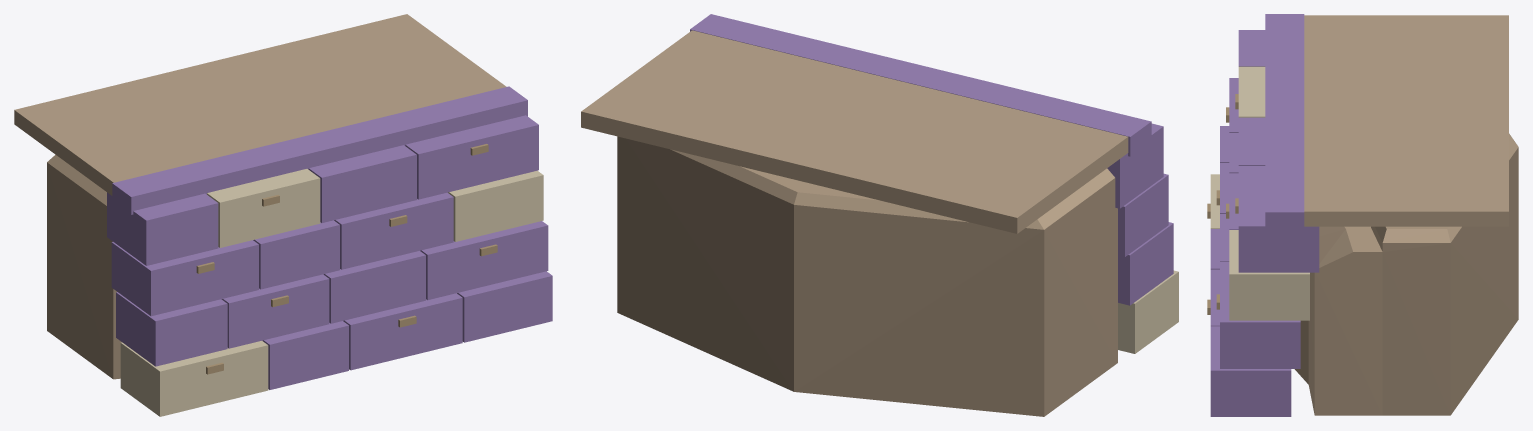
File: terrace-wall-lilac.glb
3 views of the same model, side by side, from view 1: azimuth 30°, elevation 25°; view 2: azimuth 150°, elevation 25°; view 3: azimuth 270°, elevation 25° (orthographic). The views are drawn at different scales.
Visible parts, largest first — view 1: terrace-wall-lilac; view 2: terrace-wall-lilac; view 3: terrace-wall-lilac.
Part boxes in pixels (<box>): terrace-wall-lilac: <box>14,14,552,416</box>; terrace-wall-lilac: <box>581,14,1178,416</box>; terrace-wall-lilac: <box>1207,14,1518,416</box>.
Bounding box in the file's own units: 6.04 × 2.93 × 4.01.
